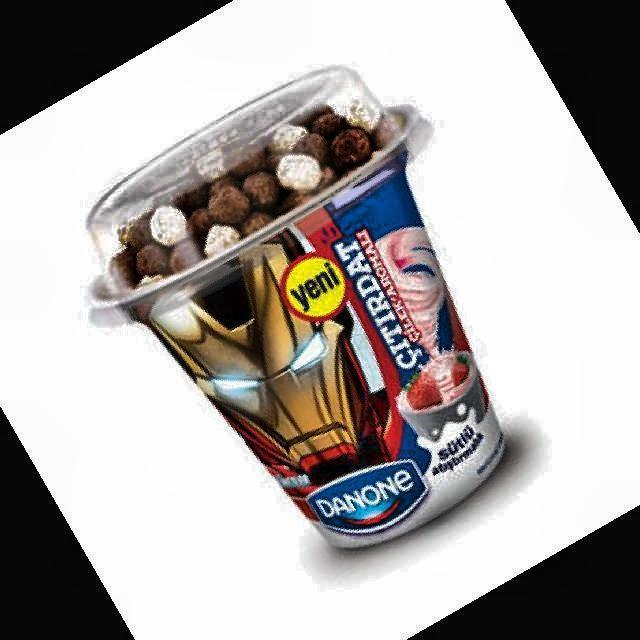plastic: (88, 68, 505, 548)
